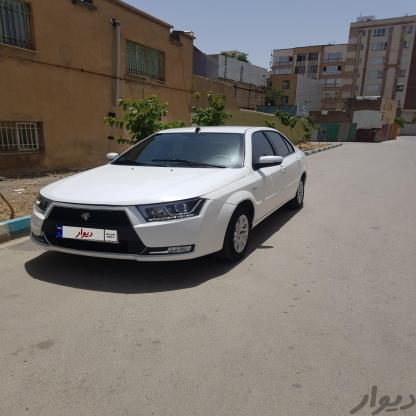Car: (15, 123, 306, 272)
